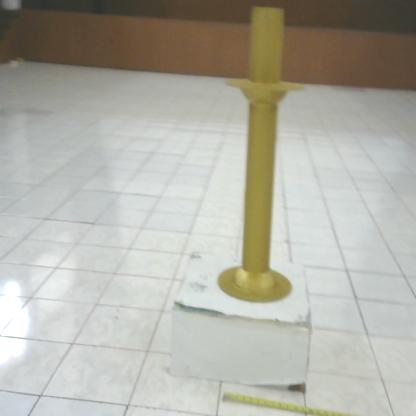pole: (215, 2, 314, 310)
